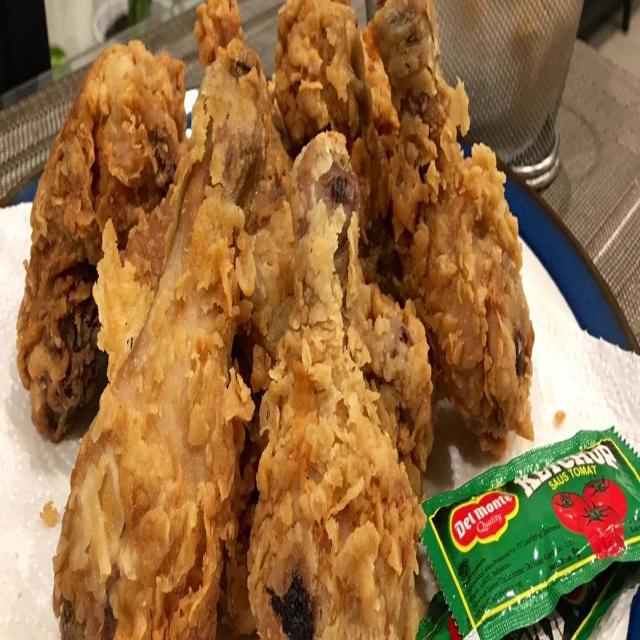Frango: (52, 35, 270, 640), (249, 130, 416, 640), (377, 0, 534, 444)
